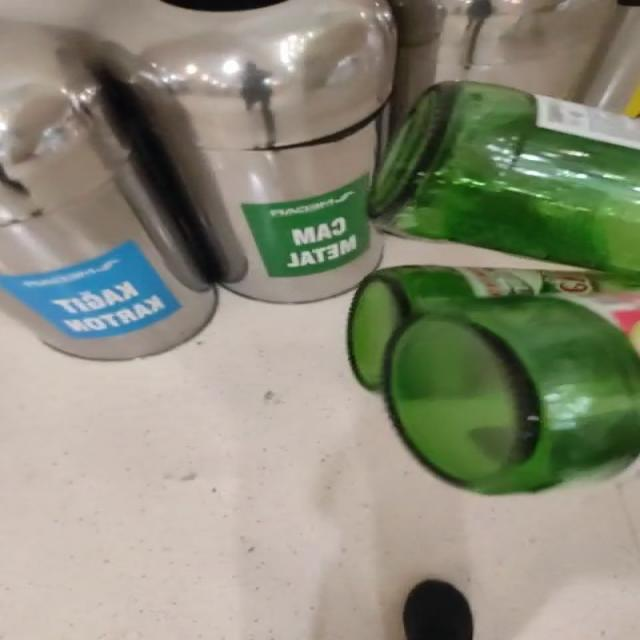bin: (92, 0, 396, 303)
glass: (348, 81, 639, 495)
